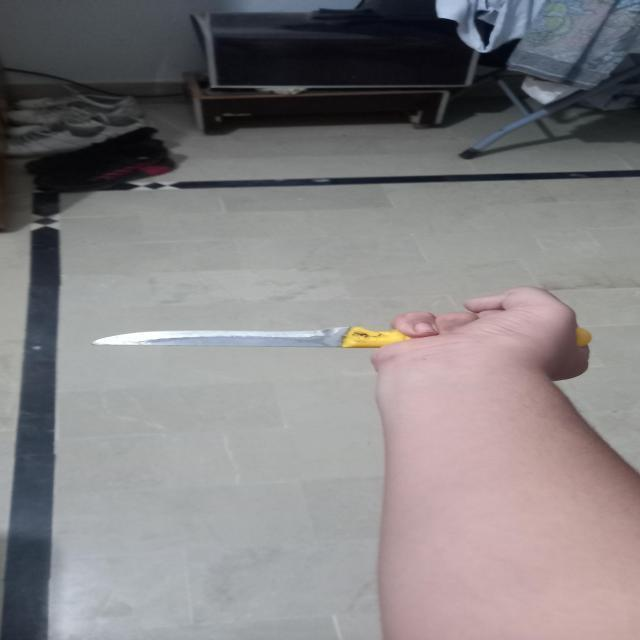faca: (95, 328, 589, 348)
